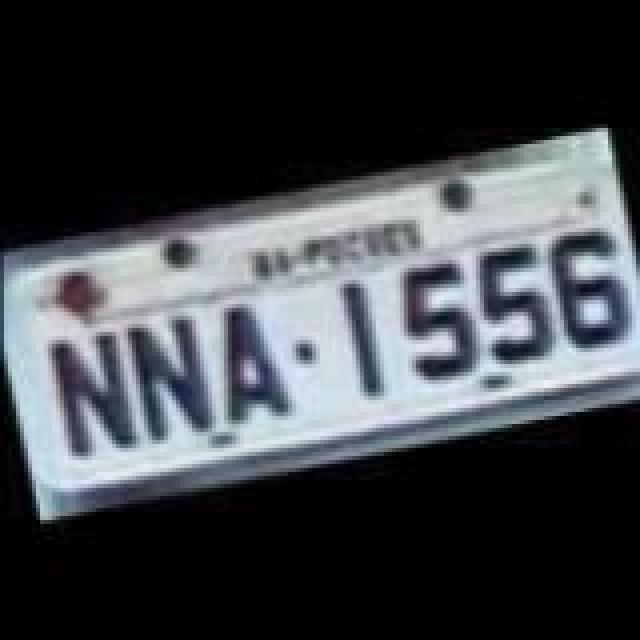1: (328, 272, 396, 404)
5: (386, 248, 490, 384), (464, 234, 564, 370)
6: (536, 220, 640, 356)
A: (202, 288, 298, 432)
N: (38, 324, 146, 460), (120, 308, 224, 448)
